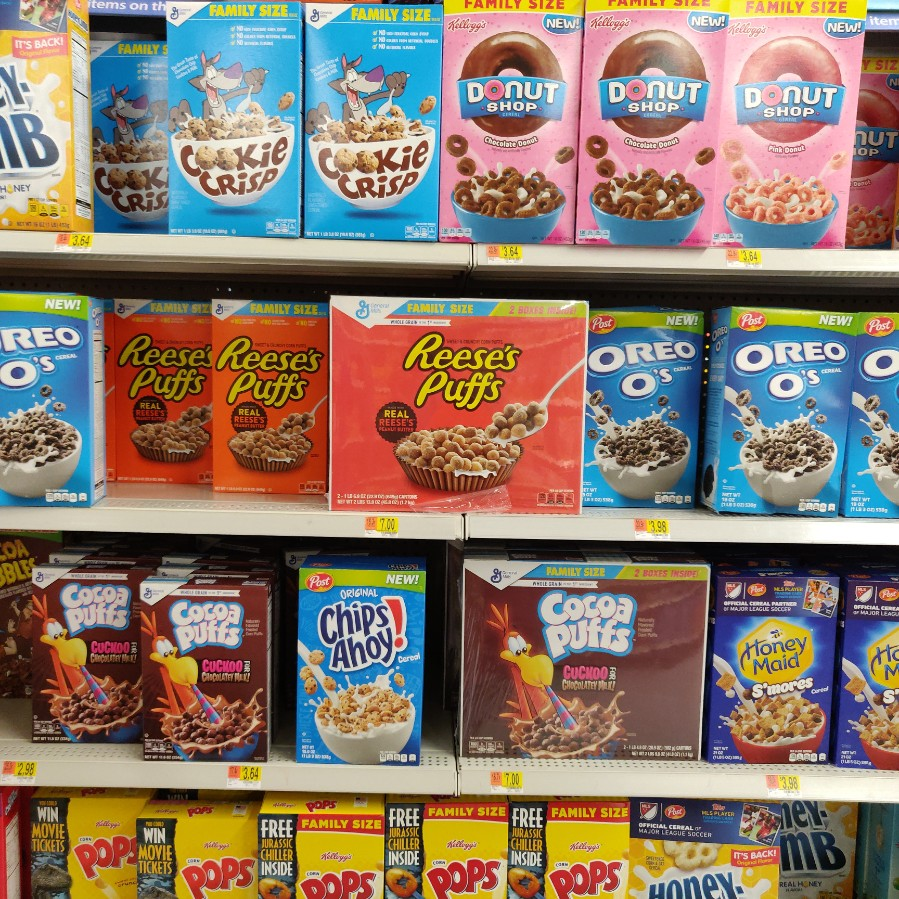Chips Ahoys-565717529: (288, 566, 420, 766)
Honey Comb- 009288857: (1, 31, 85, 233), (635, 800, 773, 899), (769, 794, 854, 892)
Oreo-563424384: (710, 312, 835, 518), (588, 304, 697, 510), (1, 306, 99, 507), (852, 311, 899, 522)
